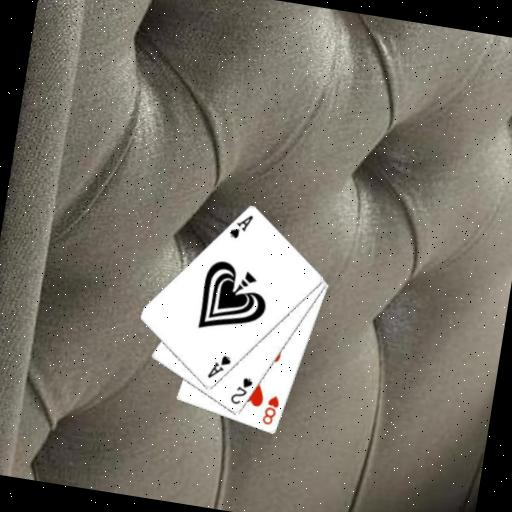2S: (227, 372, 255, 408)
8H: (258, 391, 282, 428)
AS: (204, 349, 234, 383), (225, 209, 255, 243)
